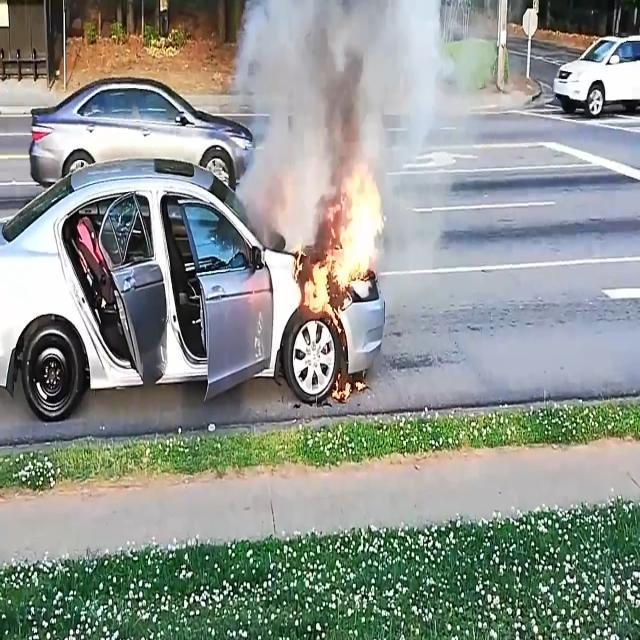fire: (289, 165, 386, 406)
